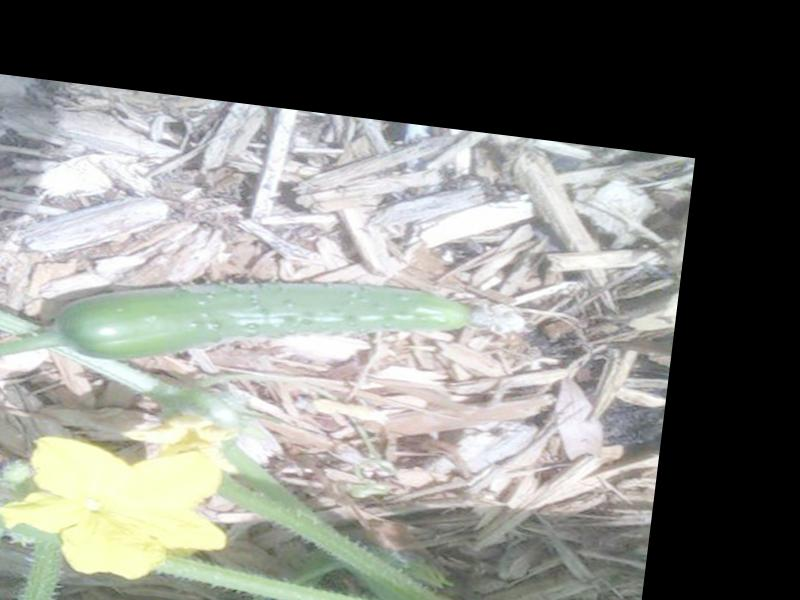Cucumber: (45, 242, 518, 407)
